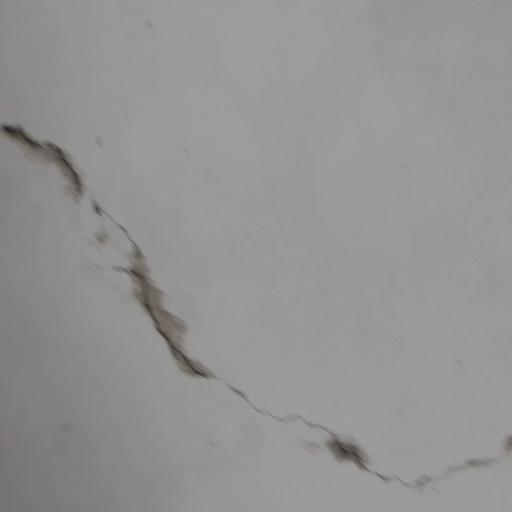major_crack: (0, 99, 512, 498)
